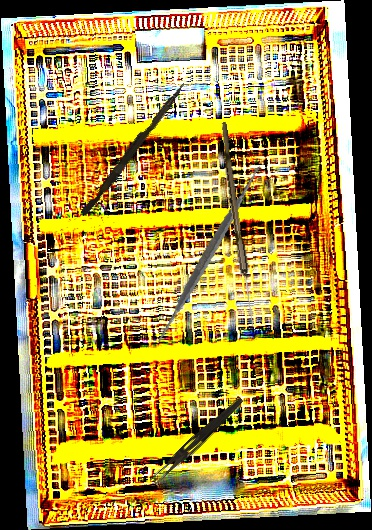Dressing Forceps: (150, 393, 245, 488)
Pusher: (80, 78, 187, 219)
Spatula Surgical: (121, 164, 298, 344)
Surgical Spoon: (216, 121, 259, 329)
